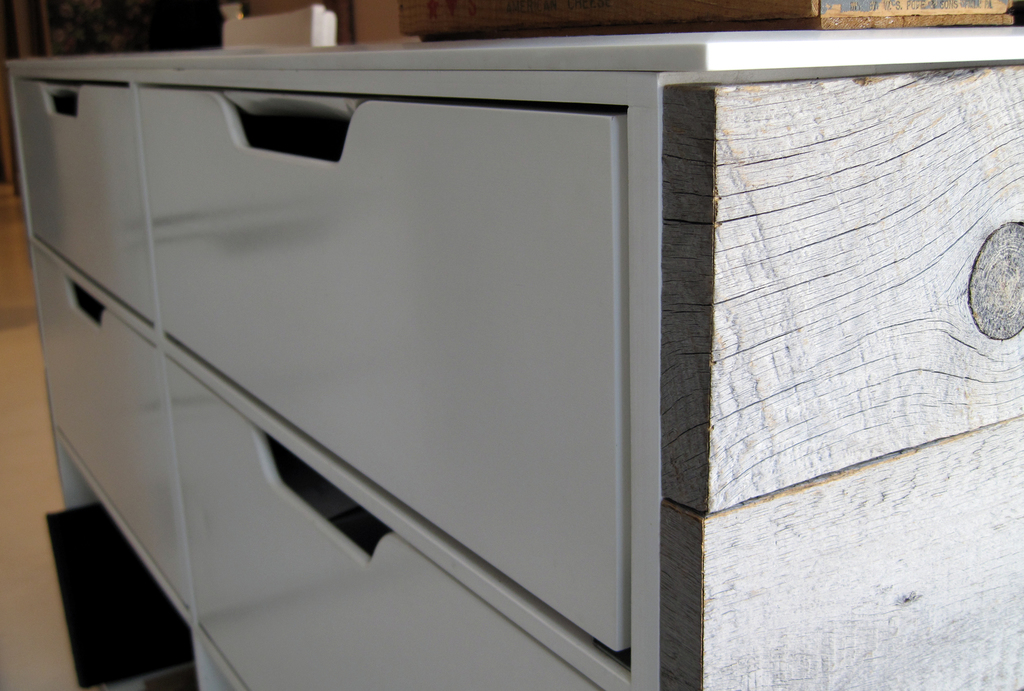cabinet door: (131, 100, 635, 495), (184, 423, 556, 691), (34, 293, 179, 522), (24, 91, 146, 266)
handle: (230, 431, 398, 572), (217, 85, 371, 169), (52, 266, 115, 325), (35, 83, 91, 124)
